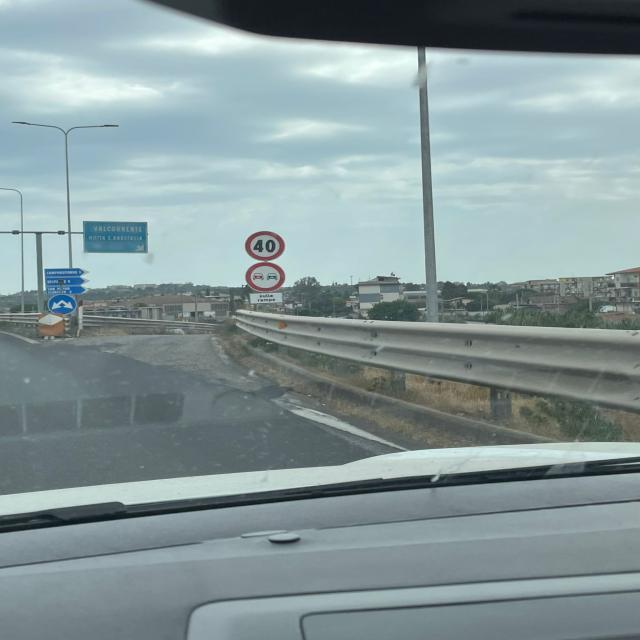forb_overtake: (245, 262, 286, 292)
forb_speed_over_40: (246, 230, 286, 262)
